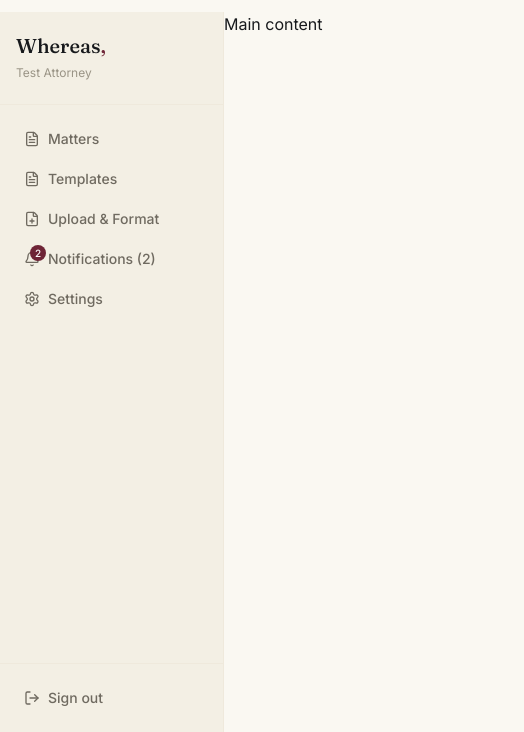
Test case: AppShell — Item 2: notifications dropdown + working mark-seen › the bell is a BUTTON; the panel is closed until clicked, then lists the items + a "mark all as read" control
Click the button with test id "notifications-bell". click: click(112, 259)
box: left=12, top=241, right=211, bottom=277
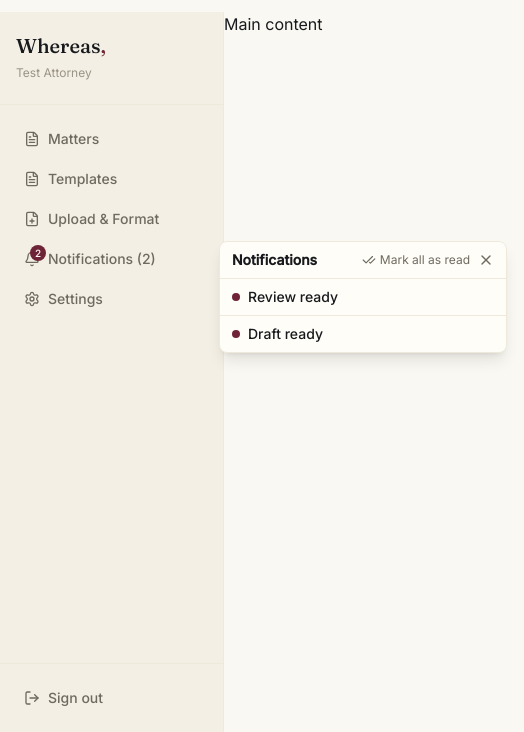
Expected: the menu with test id "notifications-panel" is shown, left=219, top=241, right=507, bottom=353
Expected: the button with test id "notifications-mark-all" is shown, left=362, top=252, right=470, bottom=268
Expected: the number of buttons with test id "notification-item" is 2, left=220, top=279, right=506, bottom=315; left=220, top=316, right=506, bottom=352
